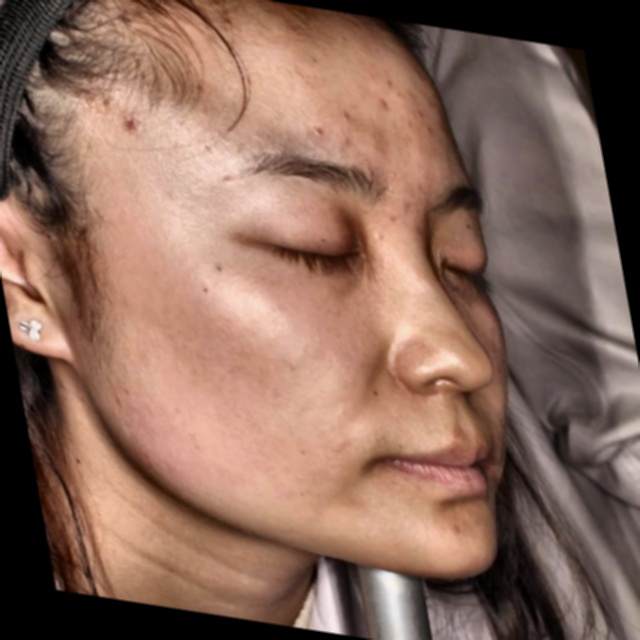comedone: (116, 111, 148, 143)
